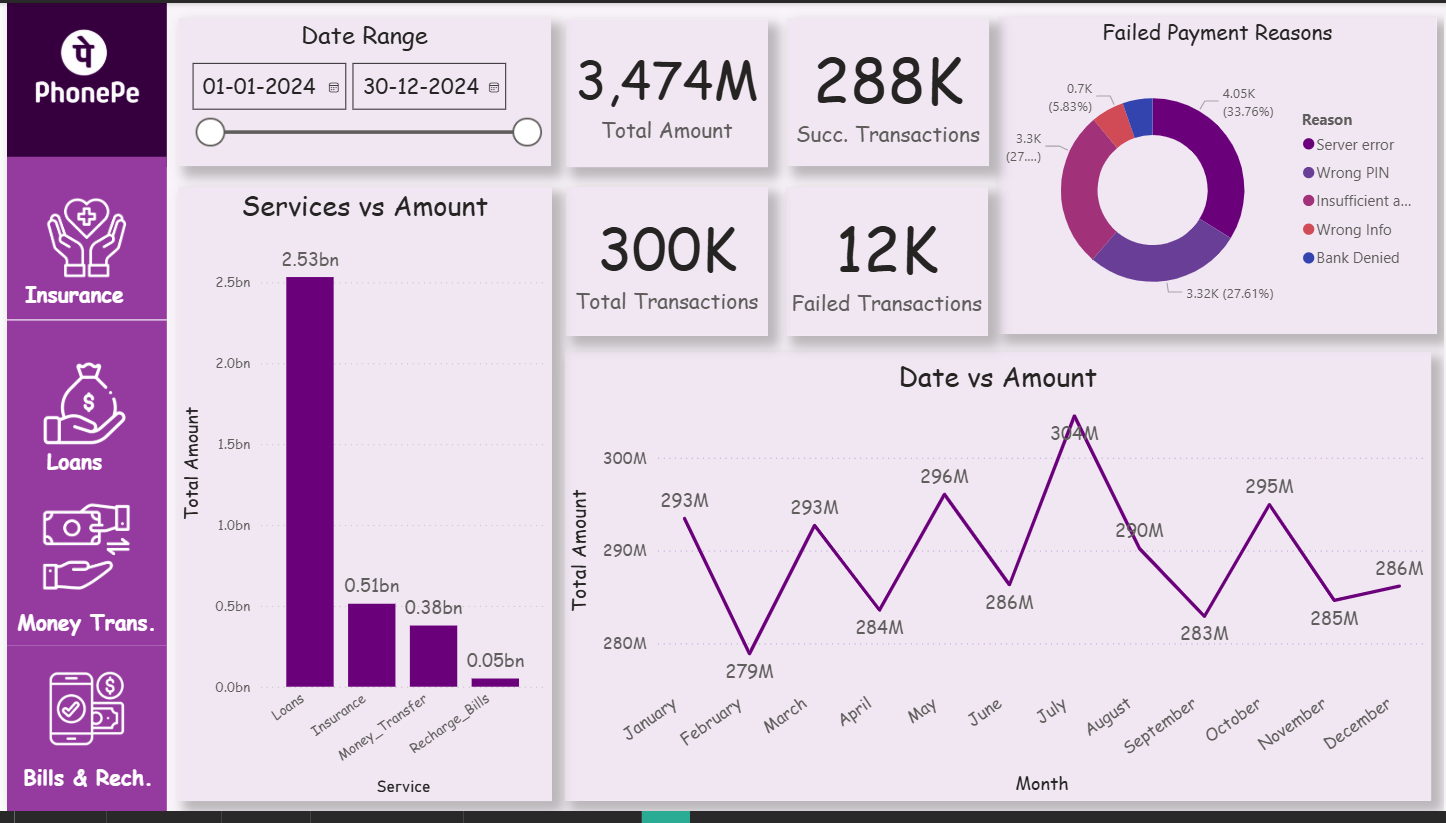

The page's visual inventory and layout, read from the dashboard file:
{"tool":"powerbi","page":{"name":"Home","canvas":[1280,720],"ordinal":0},"visuals":[{"type":"shape","box":[0,0,142.3,146],"z":0,"group":"g2"},{"type":"slicer","title":"Date Range","fields":{"Values":["All_Transactions.Date"]},"box":[152.7,13.1,331.6,132.4],"z":0},{"type":"donutChart","title":"Failed Payment Reasons","fields":{"Category":["All_Transactions.Reason"],"Y":["CountNonNull(All_Transactions.Reason)"]},"box":[882.9,12.6,390.4,282.6],"z":1000},{"type":"shape","box":[0,282.2,142.3,144.8],"z":1000,"group":"g4"},{"type":"clusteredColumnChart","title":"Services vs Amount","fields":{"Category":["All_Transactions.Service"],"Y":["Sum(All_Transactions.Amount)"]},"box":[152.1,163.2,332.5,547.2],"z":2000},{"type":"shape","box":[0,427,142.3,144.8],"z":2000,"group":"g5"},{"type":"lineChart","title":"Date vs Amount","fields":{"Category":["All_Transactions.Date.Variation.Date Hierarchy.Month"],"Y":["Sum(All_Transactions.Amount)"]},"box":[496.9,310.4,771.8,400],"z":3000},{"type":"shape","box":[0,571.8,142.3,148.5],"z":3000,"group":"g6"},{"type":"group","id":"g1","title":"Group 1","box":[497.5,13.1,376.7,282.2],"z":4000},{"type":"shape","box":[0,137.4,142.3,144.8],"z":4000,"group":"g7"},{"type":"group","id":"g2","title":"Group 2","box":[0,0,142.3,146],"z":5000},{"type":"image","box":[17.2,0,109.2,117.8],"z":5000,"group":"g2"},{"type":"group","id":"g3","title":"Group 3","box":[0,137.4,142.3,144.8],"z":6000},{"type":"image","box":[24.5,310.4,92,89.6],"z":6000,"group":"g4"},{"type":"group","id":"g4","title":"Group 5","box":[0,282.2,142.3,144.8],"z":7000},{"type":"image","box":[23.3,585.3,95.7,85.9],"z":7000,"group":"g6"},{"type":"image","box":[23.3,163.2,95.7,93.3],"z":8000,"group":"g7"},{"type":"group","id":"g5","title":"Group 6","box":[0,427,142.3,144.8],"z":8000},{"type":"image","box":[22.1,434.4,96.9,98.2],"z":9000,"group":"g5"},{"type":"group","id":"g6","title":"Group 7","box":[0,571.8,143.6,148.5],"z":9000},{"type":"actionButton","box":[0,135.7,142.7,145.5],"z":10000},{"type":"textbox","box":[0,240.5,120.2,41.7],"z":10000,"group":"g7"},{"type":"actionButton","box":[0,282.2,142.3,144.8],"z":11000},{"type":"textbox","box":[0,388.9,120.2,38],"z":11000,"group":"g4"},{"type":"actionButton","box":[1.2,427,142.3,144.8],"z":12000},{"type":"textbox","box":[0,532.5,142.3,39.3],"z":12000,"group":"g5"},{"type":"actionButton","box":[0,571.5,142.3,148.5],"z":13000},{"type":"textbox","box":[1.2,671.2,142.3,39.3],"z":13000,"group":"g6"},{"type":"card","fields":{"Values":["Sum(All_Transactions.Amount)"]},"box":[497.7,14.6,180.4,132.4],"z":15000,"group":"g1"},{"type":"card","fields":{"Values":["Count(All_Transactions.Transaction_ID)"]},"box":[694.1,13.1,180.4,132.4],"z":16000,"group":"g1"},{"type":"card","fields":{"Values":["Count(All_Transactions.Transaction_ID)"]},"box":[693.8,163.2,180.4,132.5],"z":17000,"group":"g1"},{"type":"card","fields":{"Values":["Count(All_Transactions.Transaction_ID)"]},"box":[497.5,163.2,180.4,132.5],"z":18000,"group":"g1"},{"type":"group","id":"g7","title":"Group 4","box":[0,137.4,142.3,144.8],"z":19009,"group":"g3"}]}

Visuals, with their boxes in screenshot pixels (x1, y1, x2, y2), scaled from the page's 1280x720 canvas onto the 1446x823 screenshot:
shape: 0, 0, 161, 167
"Date Range" slicer: 173, 15, 547, 166
"Failed Payment Reasons" donutChart: 997, 14, 1438, 337
shape: 0, 323, 161, 488
"Services vs Amount" clusteredColumnChart: 172, 187, 547, 812
shape: 0, 488, 161, 654
"Date vs Amount" lineChart: 561, 355, 1433, 812
shape: 0, 654, 161, 822
"Group 1" group: 562, 15, 988, 338
shape: 0, 157, 161, 323
"Group 2" group: 0, 0, 161, 167
image: 19, 0, 143, 135
"Group 3" group: 0, 157, 161, 323
image: 28, 355, 132, 457
"Group 5" group: 0, 323, 161, 488
image: 26, 669, 134, 767
image: 26, 187, 134, 293
"Group 6" group: 0, 488, 161, 654
image: 25, 497, 134, 609
"Group 7" group: 0, 654, 162, 822
actionButton: 0, 155, 161, 321
textbox: 0, 275, 136, 323
actionButton: 0, 323, 161, 488
textbox: 0, 445, 136, 488
actionButton: 1, 488, 162, 654
textbox: 0, 609, 161, 654
actionButton: 0, 653, 161, 822
textbox: 1, 767, 162, 812
card - Sum(All_Transactions.Amount): 562, 17, 766, 168
card - Count(All_Transactions.Transaction_ID): 784, 15, 988, 166
card - Count(All_Transactions.Transaction_ID): 784, 187, 988, 338
card - Count(All_Transactions.Transaction_ID): 562, 187, 766, 338
"Group 4" group: 0, 157, 161, 323
